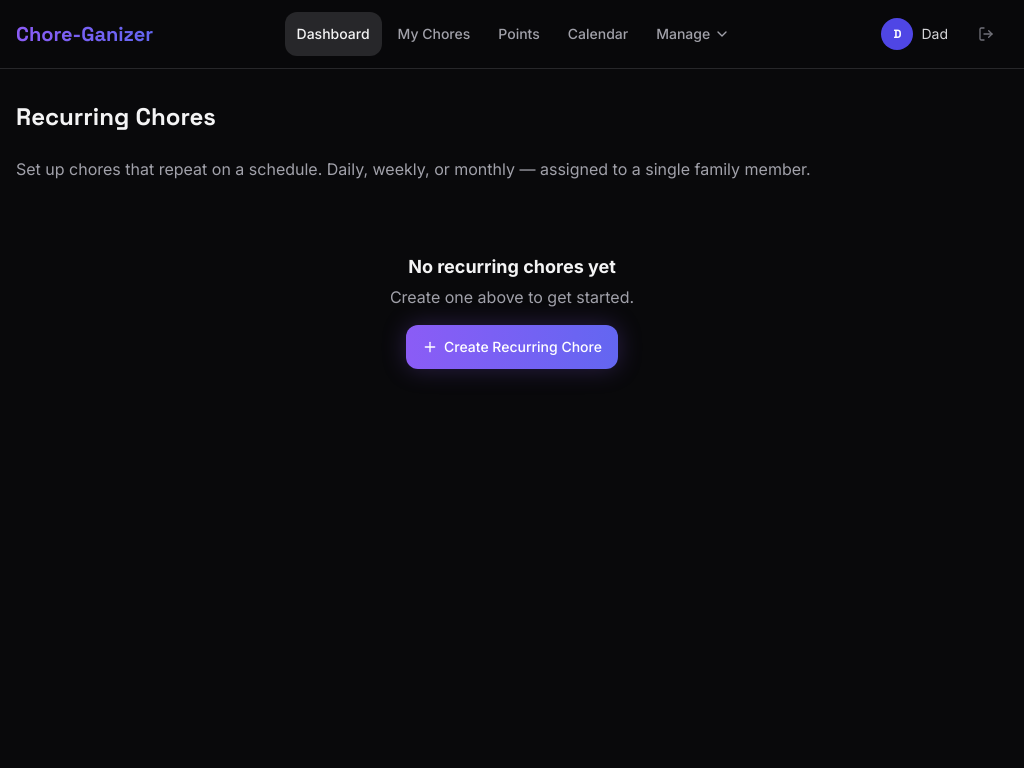
Test: RecurringChoresPage › shows dayOfMonth field when frequency is MONTHLY
Click the button "Create Recurring Chore" at (512, 347), box [406,325,618,369]
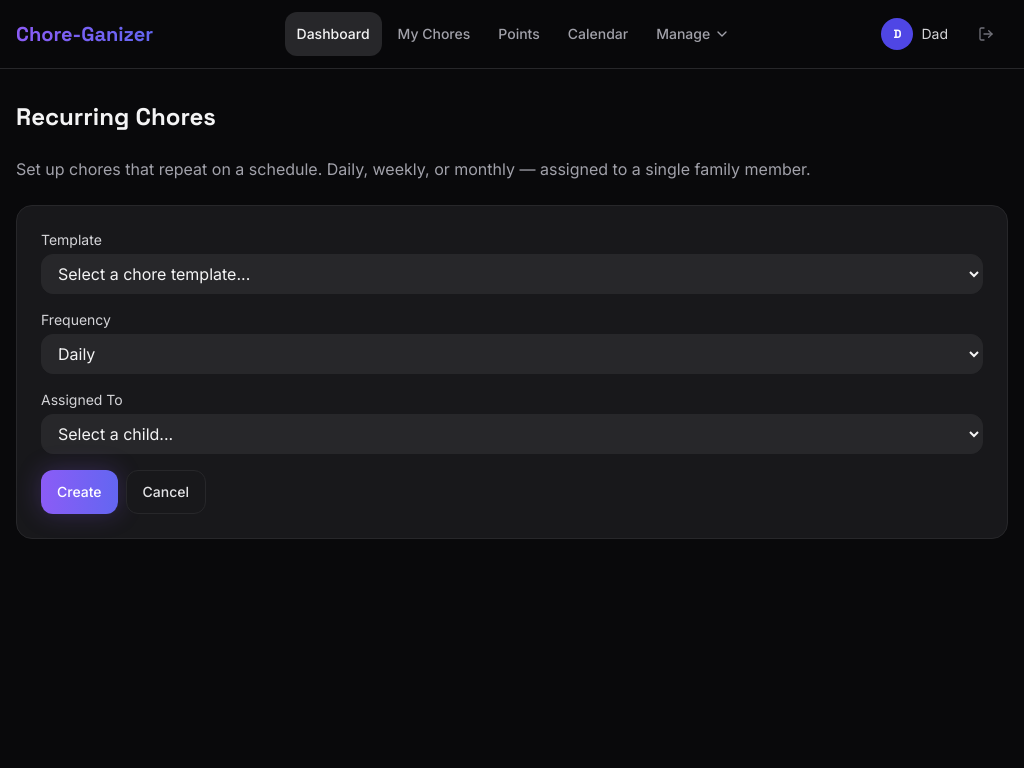
Select "Monthly" in the dropdown labelled "Frequency" at (512, 354), box [41,334,983,374]
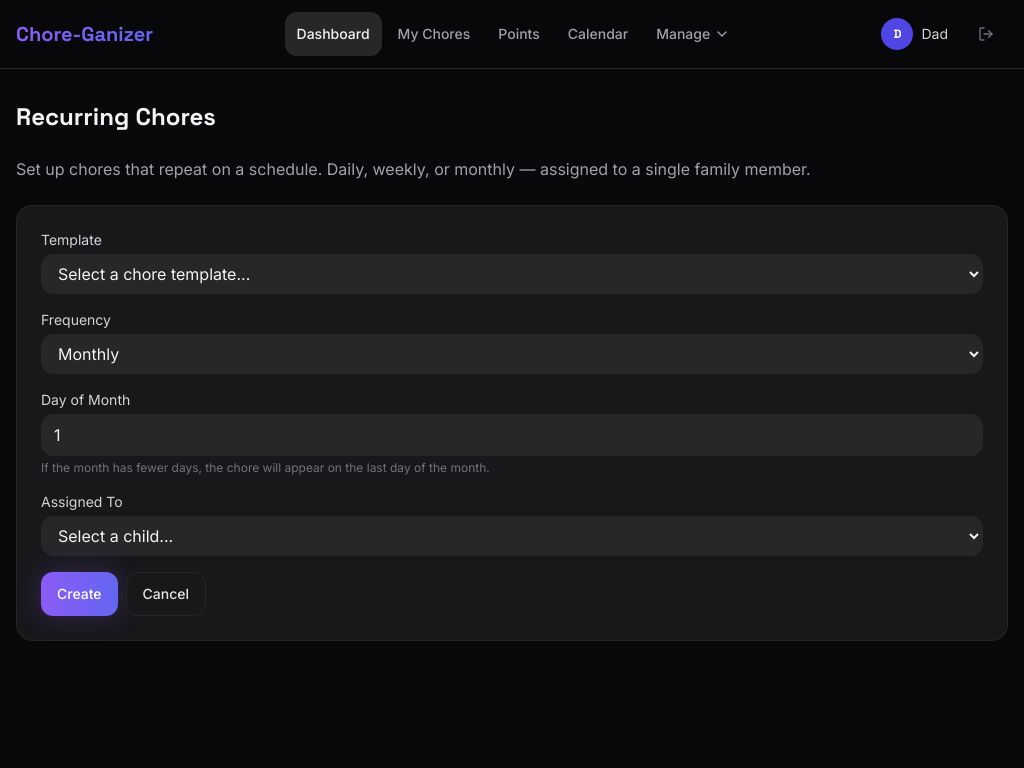
expect the number field labelled "Day of Month" is shown: met, box [41,414,983,456]
